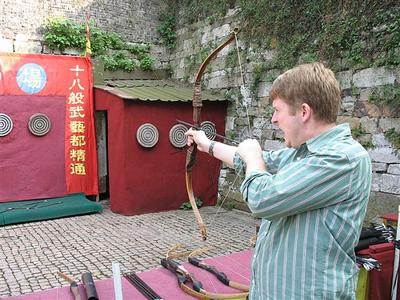person: (185, 62, 372, 300)
